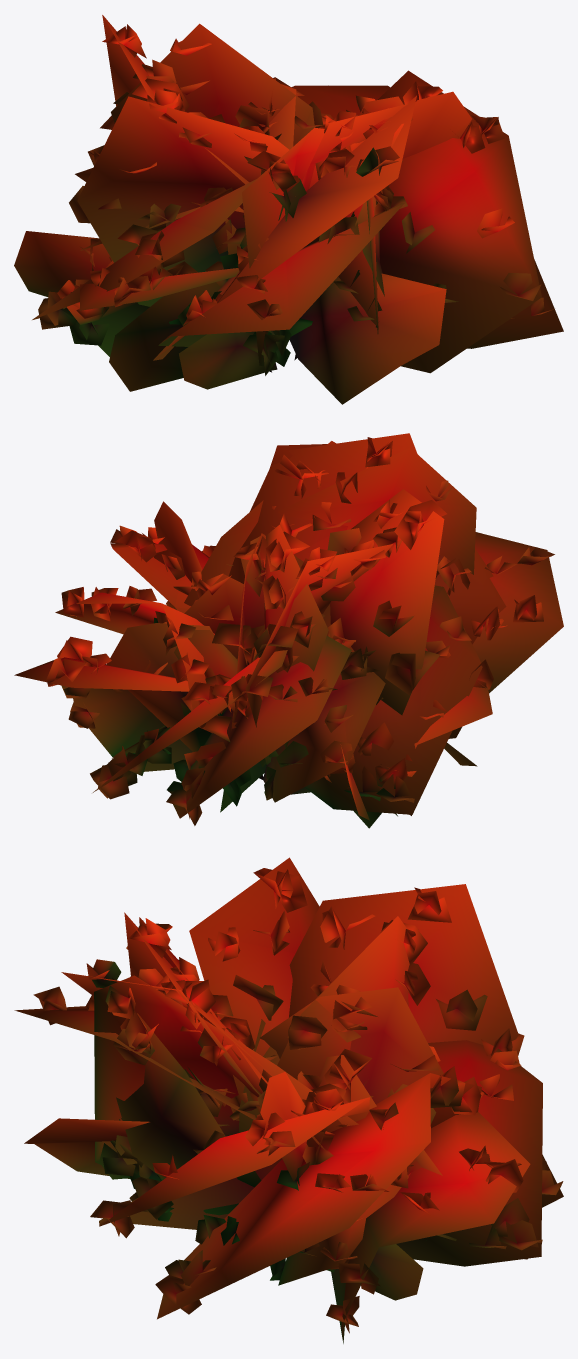
Rendered from RoseBushSmallRHEP_A.fbx.
The picture shows the model from 3 angles, top to bottom: view 1: azimuth 30°, elevation 25°; view 2: azimuth 150°, elevation 25°; view 3: azimuth 270°, elevation 25°; orthographic projection. The views are drawn at different scales.
Visible parts, largest first — view 1: RBSRHEPA_LOD0; view 2: RBSRHEPA_LOD0; view 3: RBSRHEPA_LOD0.
Part boxes in pixels (bbox=[...]): RBSRHEPA_LOD0: bbox=[14, 15, 563, 404]; RBSRHEPA_LOD0: bbox=[14, 433, 563, 828]; RBSRHEPA_LOD0: bbox=[14, 857, 563, 1343].
Size of what is drawn, in the model's own units: 1.92 by 1.37 by 2.04.
